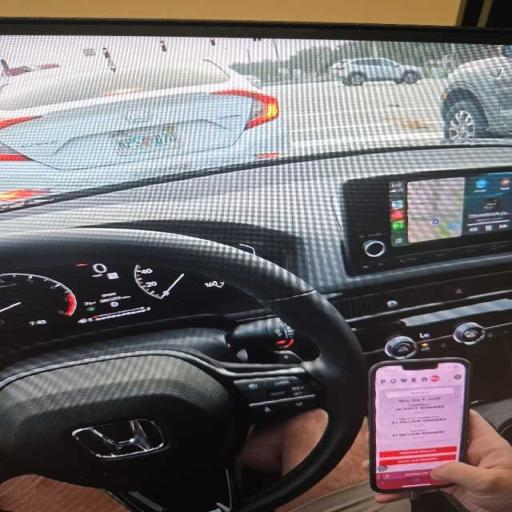car: (0, 19, 511, 511), (0, 55, 283, 185), (441, 46, 511, 139), (332, 58, 423, 85), (2, 66, 33, 76)
lane: (267, 79, 445, 152)
person: (276, 424, 409, 511)
